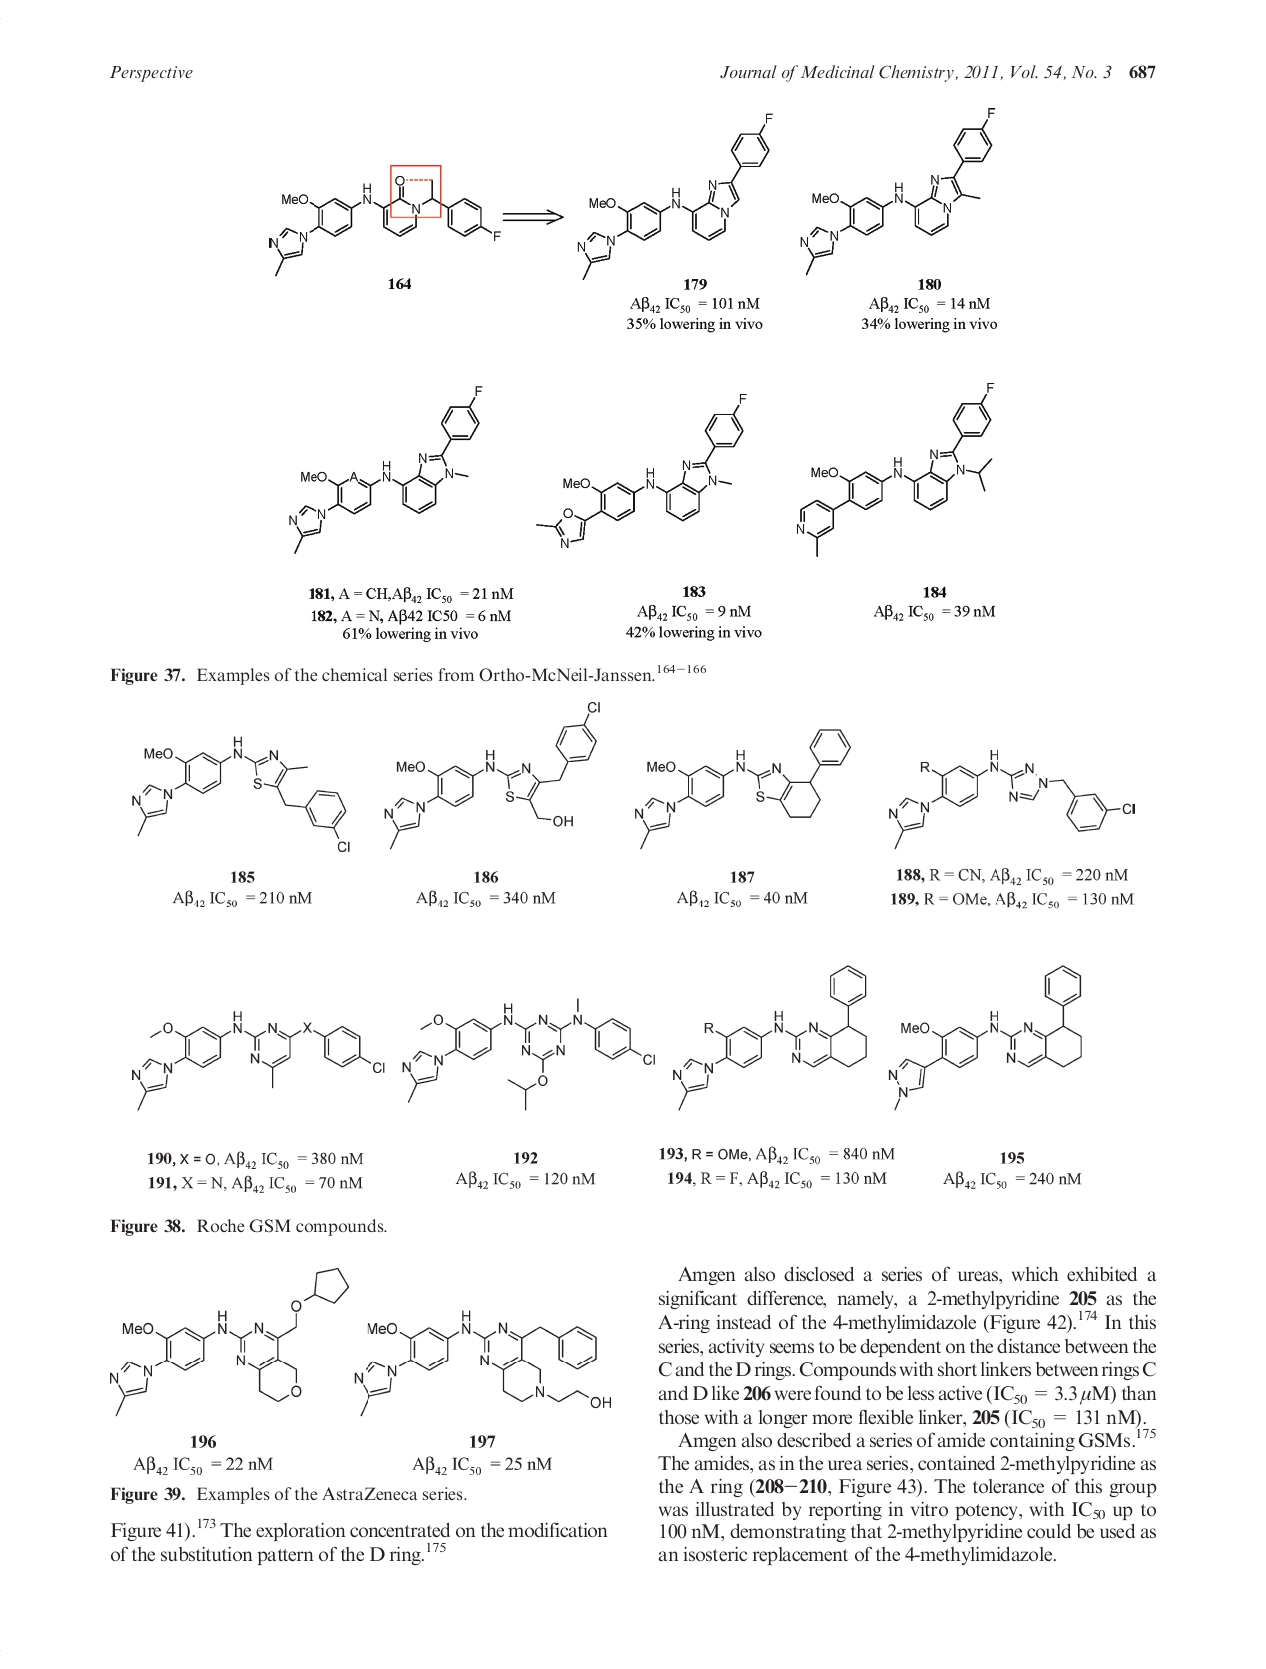exist_molecular: (106, 1262, 351, 1424), (279, 380, 493, 559), (793, 378, 999, 563), (529, 390, 753, 559), (795, 102, 1005, 278), (574, 108, 779, 281), (382, 700, 602, 852), (884, 964, 1089, 1122), (348, 1309, 617, 1423), (398, 995, 657, 1113), (670, 964, 870, 1114), (130, 733, 352, 860), (629, 727, 854, 851), (125, 1005, 388, 1110), (886, 747, 1138, 852), (265, 170, 503, 278)
